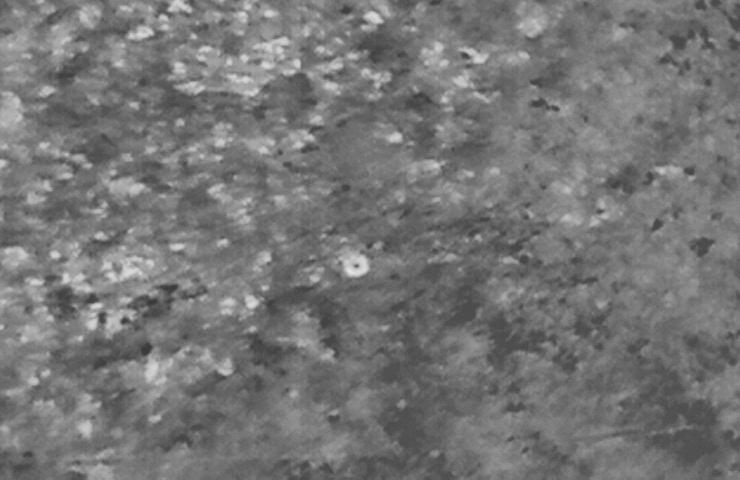landmines: (341, 251, 371, 281)
